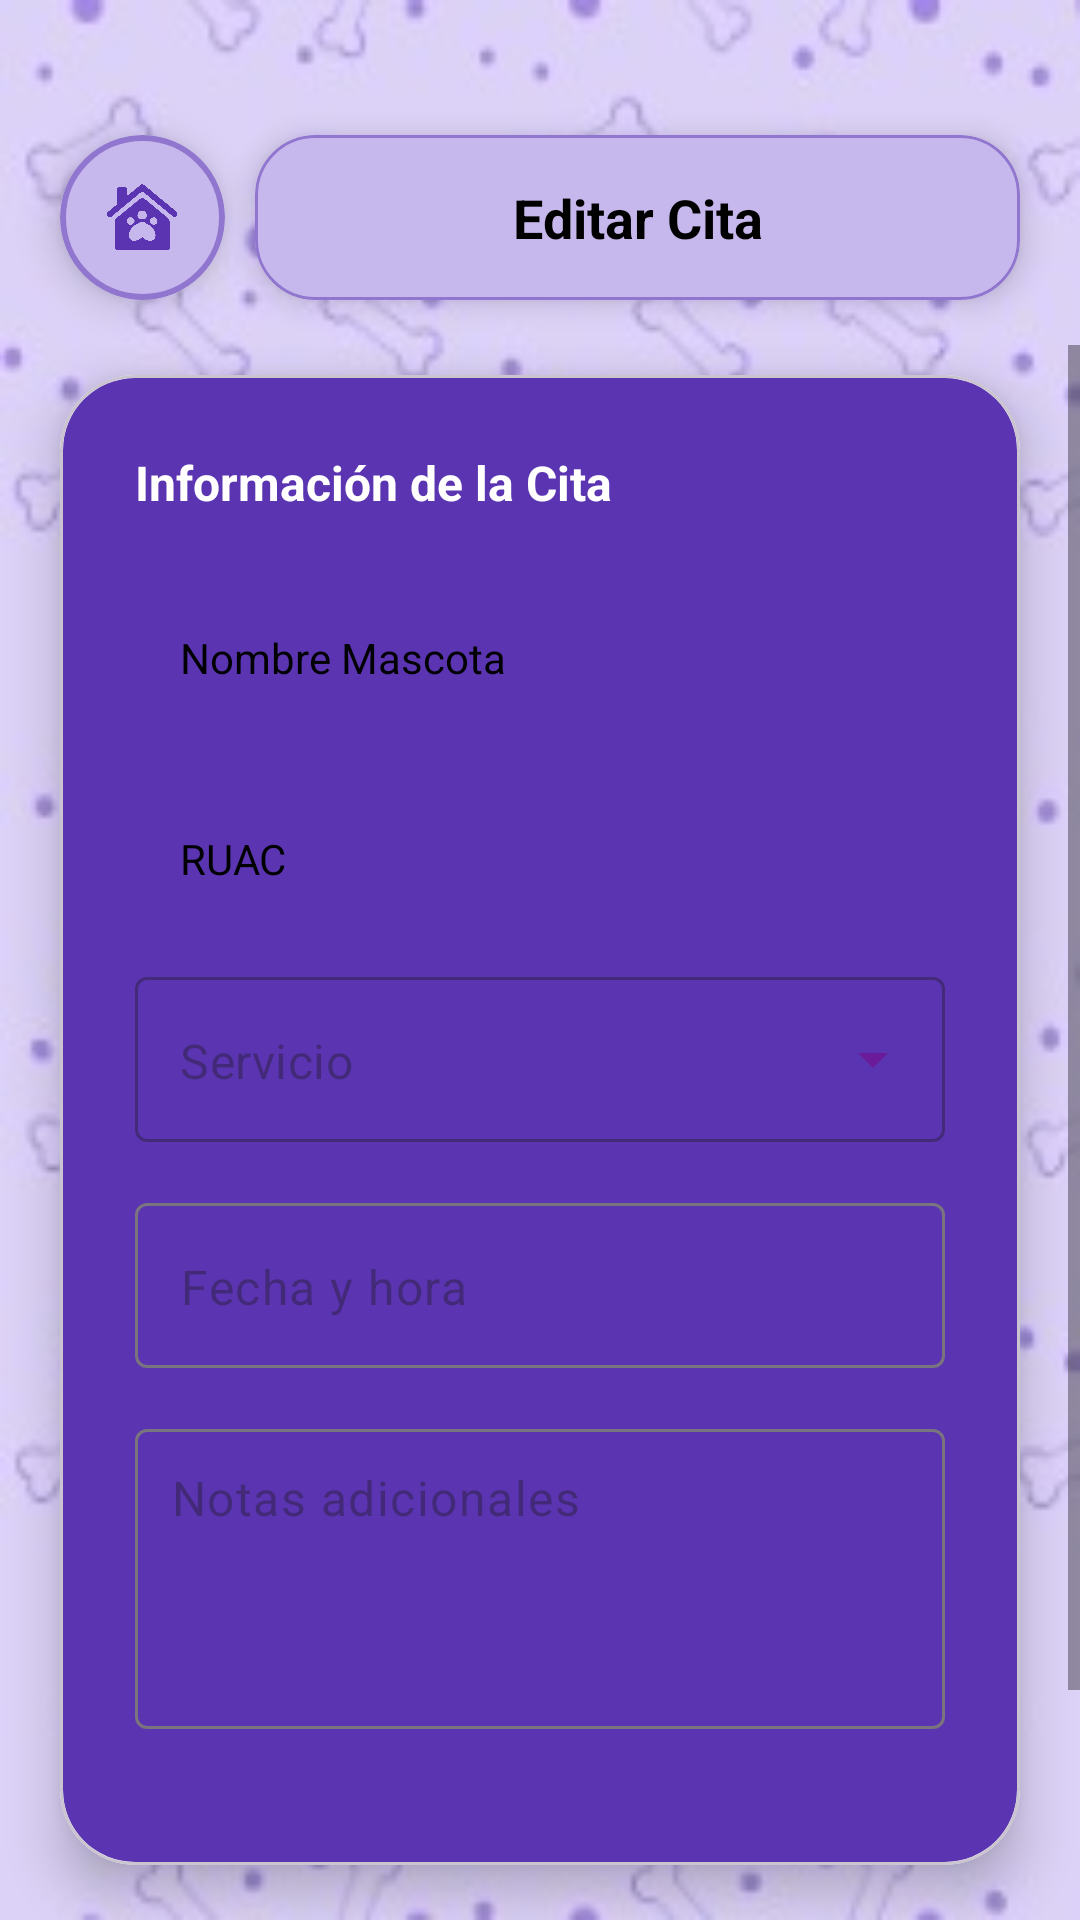

Locate icon controls on the screen. Image size 1080 × 1920, boxes as (x1,y1,x2,y2).
Volver al inicio: (60,135,225,300)
